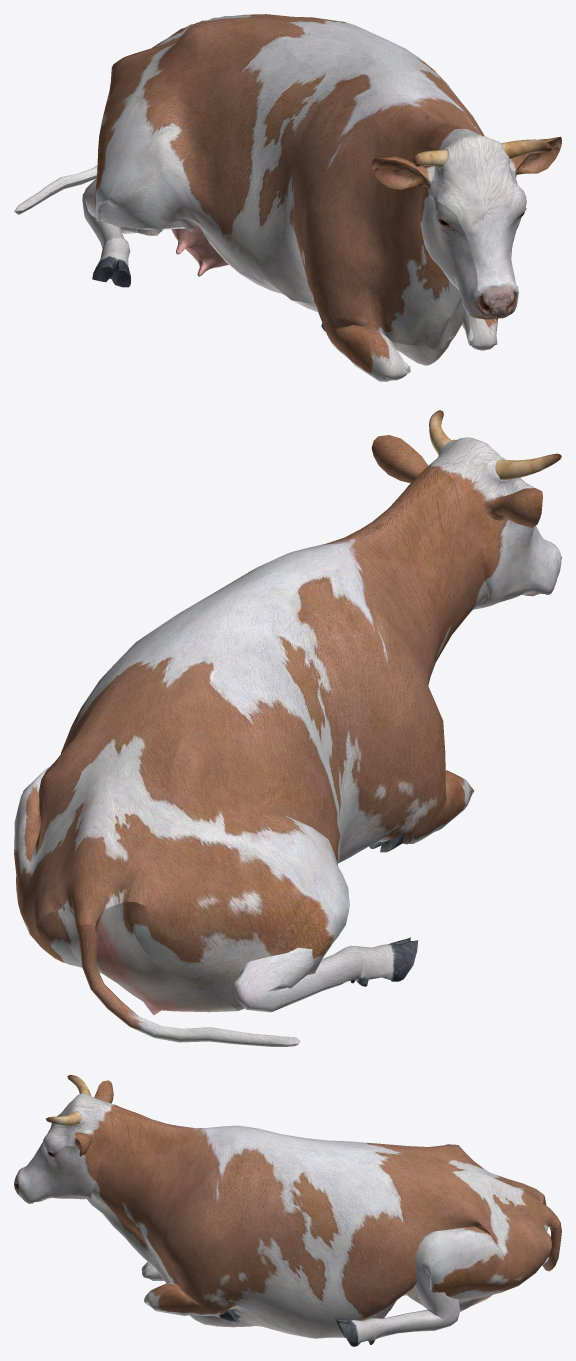
The model's file is cow_lying.glb.
3 renders of one model, top to bottom at view 1: azimuth 30°, elevation 25°; view 2: azimuth 150°, elevation 25°; view 3: azimuth 270°, elevation 25°, orthographic. The views are drawn at different scales.
Parts seen in each view (by area): view 1: Cow; view 2: Cow; view 3: Cow.
Boxes of the visible parts, x1=… form: Cow: x1=14, y1=14, x2=561, y2=381; Cow: x1=14, y1=410, x2=561, y2=1046; Cow: x1=14, y1=1075, x2=561, y2=1346.
Size of the model in its own units: 1.25 by 1.06 by 2.44.
1 material, 1 textured.
